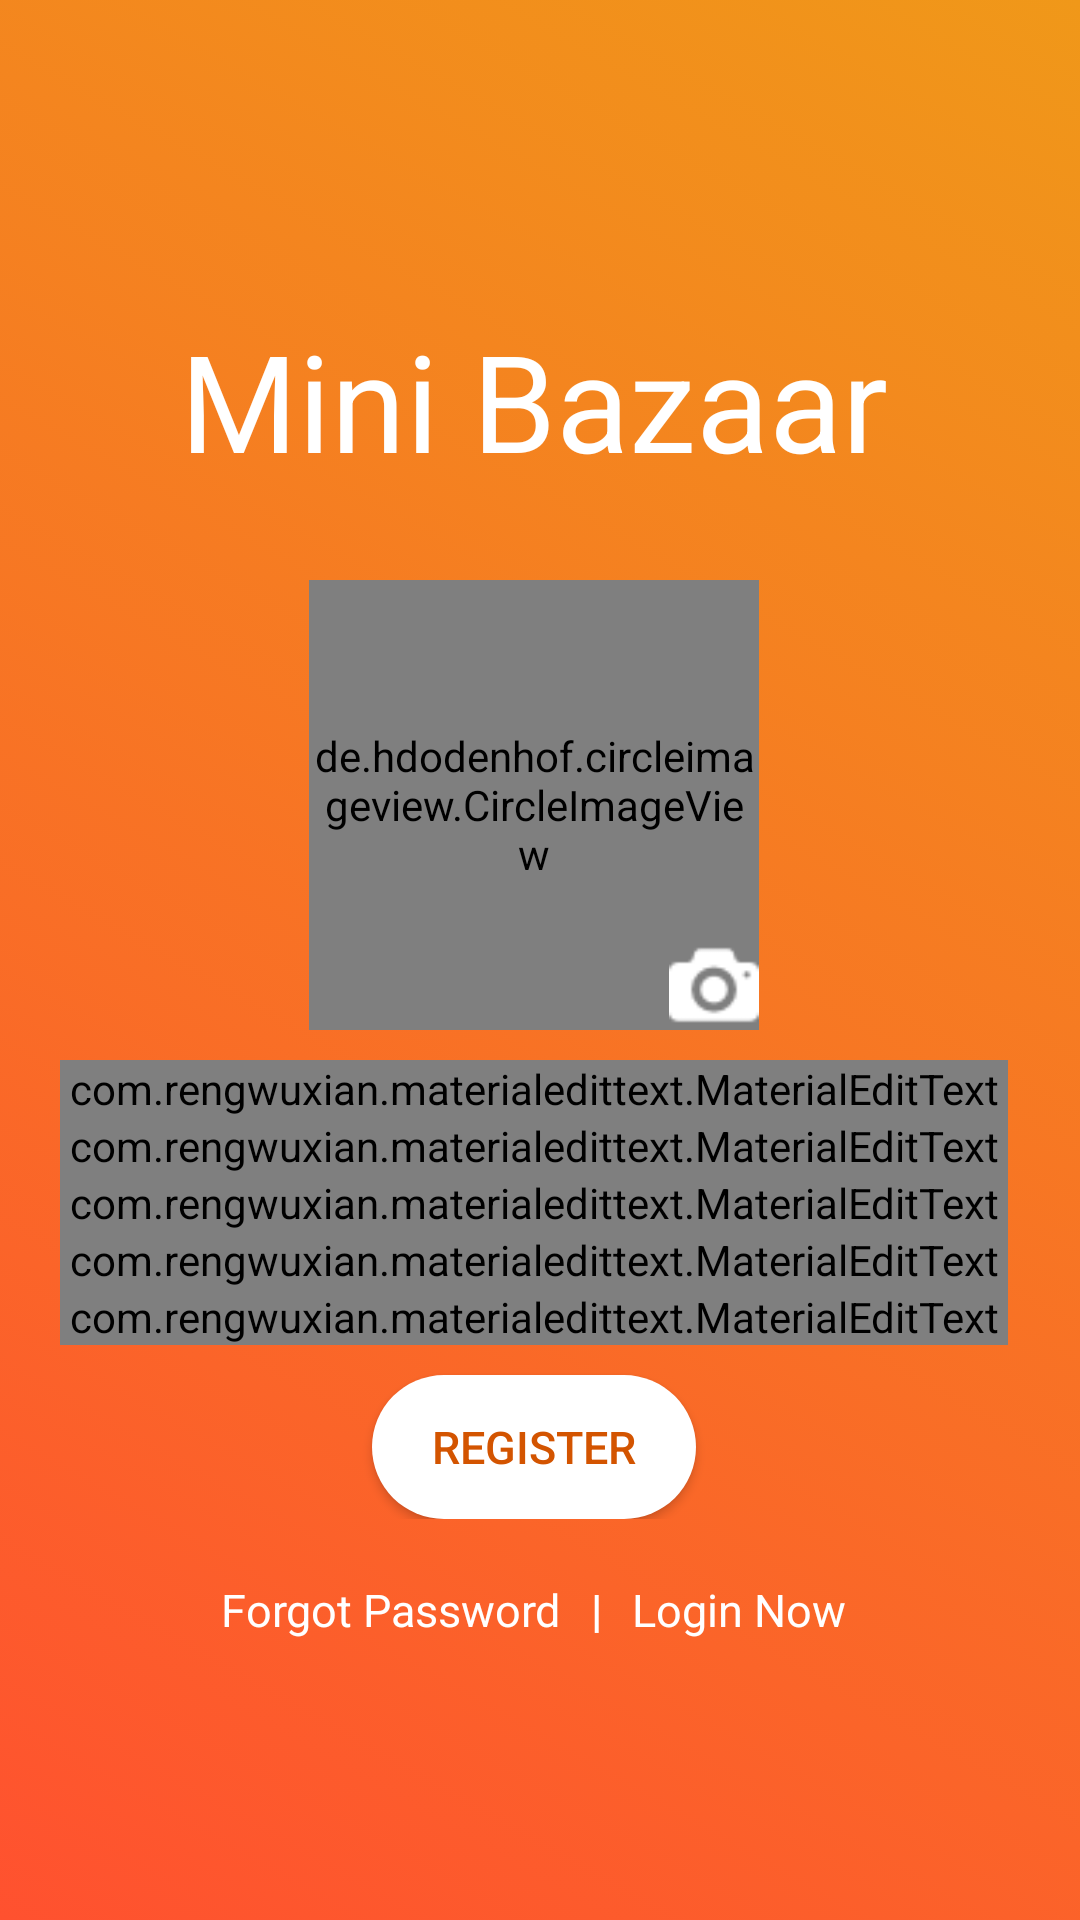

Where to tap for icons on this 1080x1920 app screen, as (x,y):
uploadpic: (714,985)
